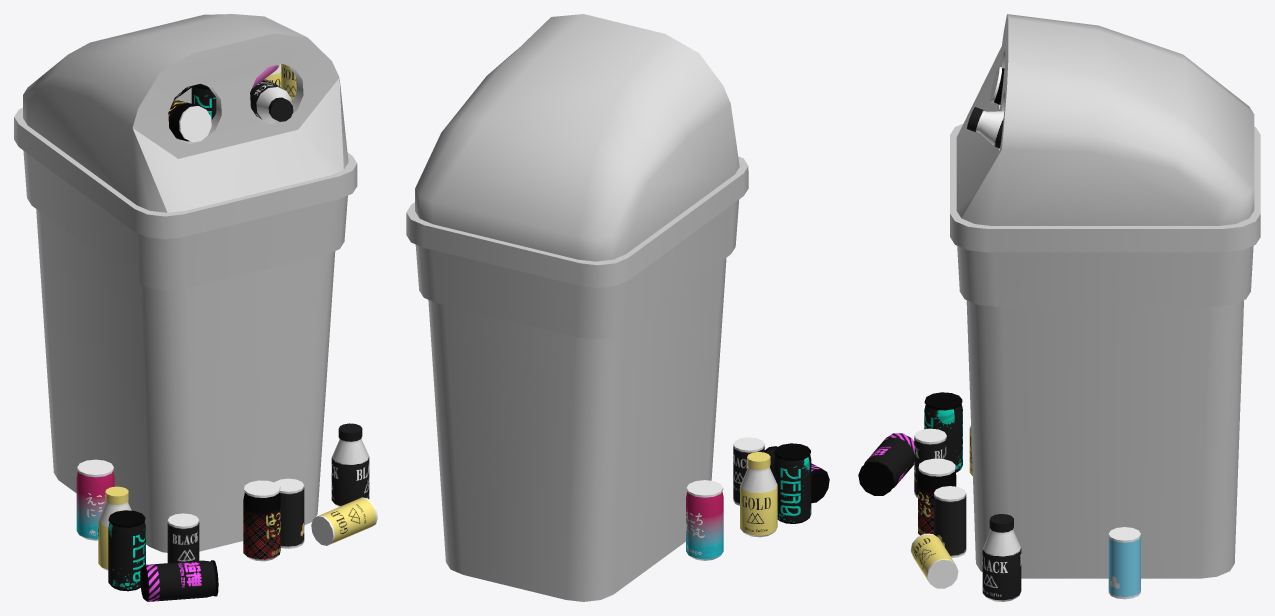
File: VendingMachine_DustBox.fbx
3 views of the same model, side by side, from view 1: azimuth 30°, elevation 25°; view 2: azimuth 150°, elevation 25°; view 3: azimuth 270°, elevation 25° (orthographic). The views are drawn at different scales.
Parts seen in each view (by area): view 1: VendingMachine_DustBox, VendingMachine_DustBox_full; view 2: VendingMachine_DustBox, VendingMachine_DustBox_full; view 3: VendingMachine_DustBox, VendingMachine_DustBox_full.
Boxes of the visible parts, <box> form: VendingMachine_DustBox: <box>14,14,357,552</box>; VendingMachine_DustBox_full: <box>76,64,377,601</box>; VendingMachine_DustBox: <box>406,14,748,601</box>; VendingMachine_DustBox_full: <box>686,437,829,560</box>; VendingMachine_DustBox: <box>950,14,1260,578</box>; VendingMachine_DustBox_full: <box>858,66,1140,601</box>.
Size of the model in its own units: 0.5218 by 0.8502 by 0.6218.
Materials: 2 (1 with a texture image).
